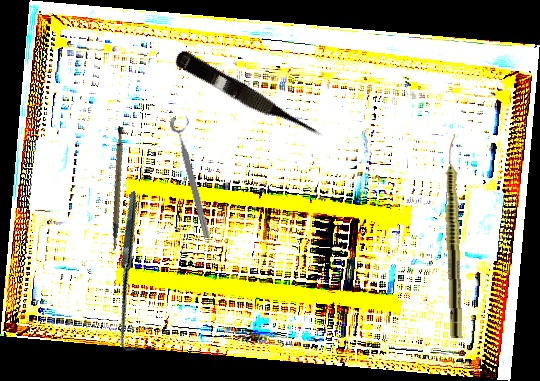Fixation Ring: (168, 113, 221, 240)
Handpiece: (442, 133, 466, 339)
Hook Surgical: (50, 190, 215, 356)
Micro Scissor: (170, 47, 327, 149)
Scalpel Handle: (93, 125, 140, 252)
